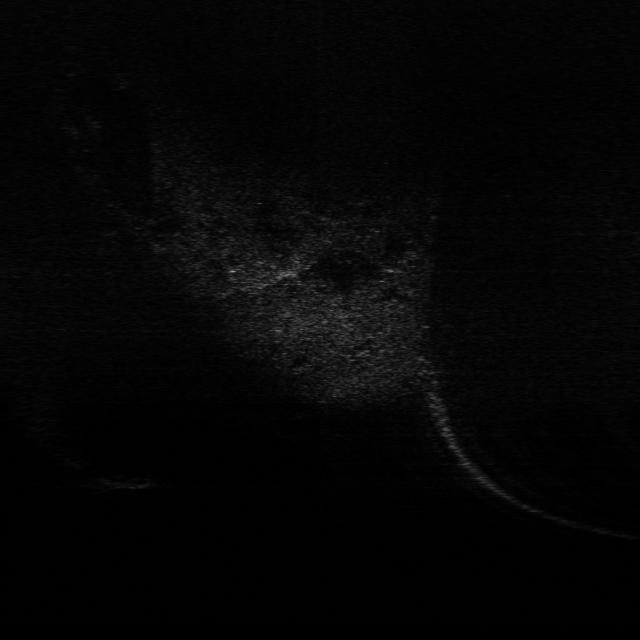cube: (90, 472, 154, 492)
